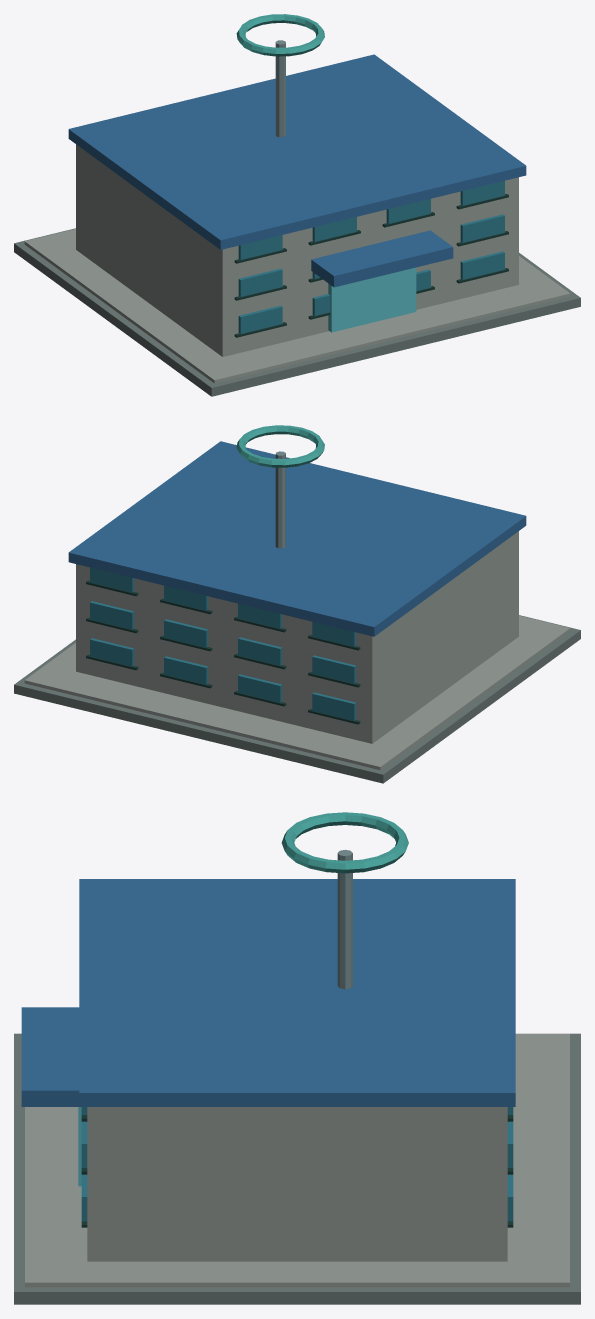
File: security_hub_lv1.glb
3 views of the same model, one above another, from view 1: azimuth 30°, elevation 25°; view 2: azimuth 150°, elevation 25°; view 3: azimuth 270°, elevation 25° (orthographic). The views are drawn at different scales.
Parts seen in each view (by area): view 1: rough, glossy, metallic; view 2: rough, glossy, metallic; view 3: rough, metallic, glossy.
Boxes of the visible parts, x1,y1,x2,y2 form: rough: [14, 14, 580, 396]; glossy: [238, 180, 504, 333]; metallic: [275, 40, 285, 137]; rough: [14, 425, 580, 783]; glossy: [90, 567, 356, 720]; metallic: [275, 451, 285, 548]; rough: [14, 812, 580, 1304]; metallic: [337, 849, 352, 989]; glossy: [78, 1107, 513, 1221].
Bounding box in the file's own units: 9.6 × 5.85 × 8.9.
